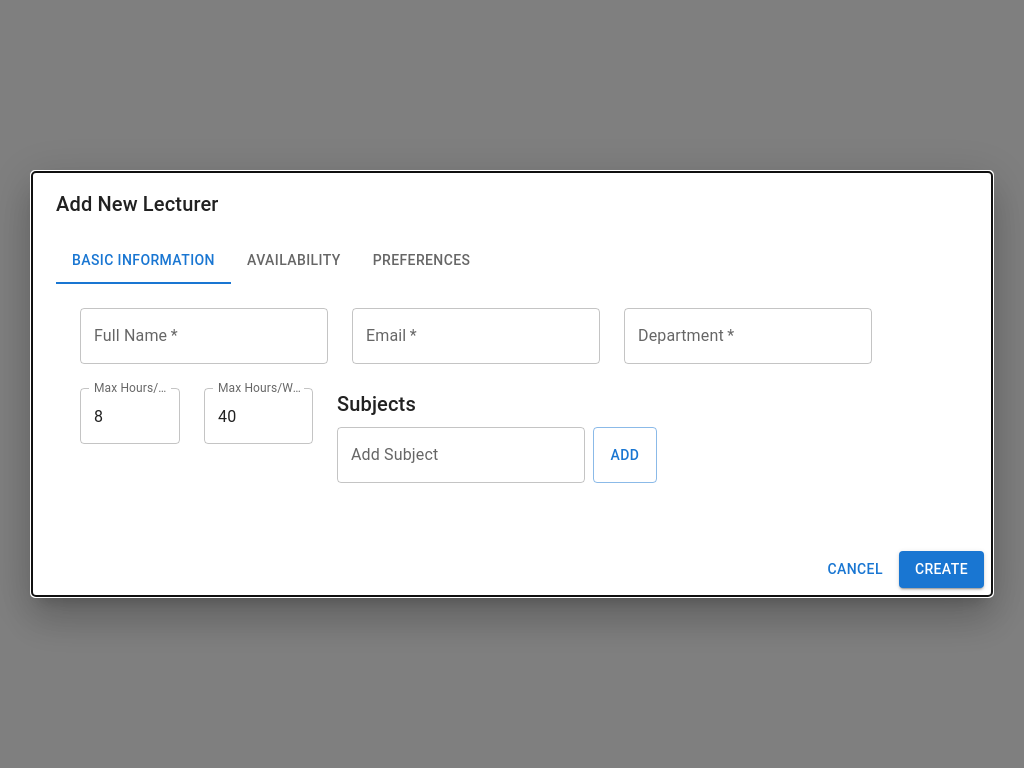
Test: LecturerForm › handles subject addition
The width and height of the screenshot is (1024, 768).
Type "Mathematics" into the field labelled "Add Subject" at [461, 455], box left=337, top=427, right=585, bottom=483
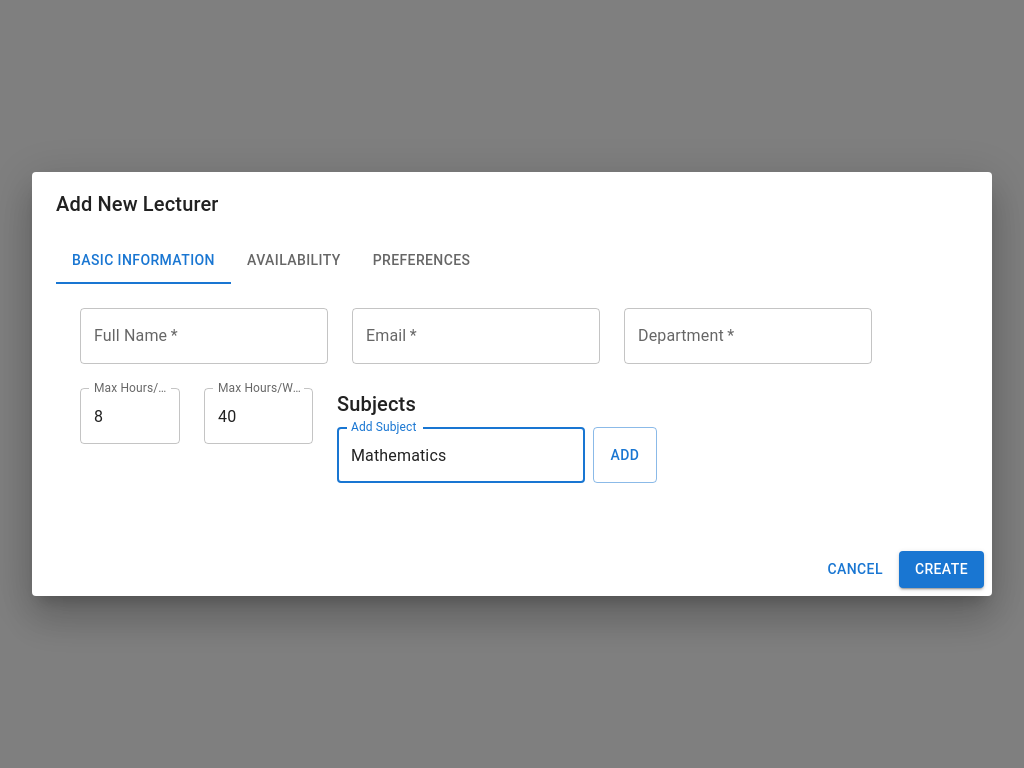
Click the button "Add" at [625, 455], box left=593, top=427, right=657, bottom=483
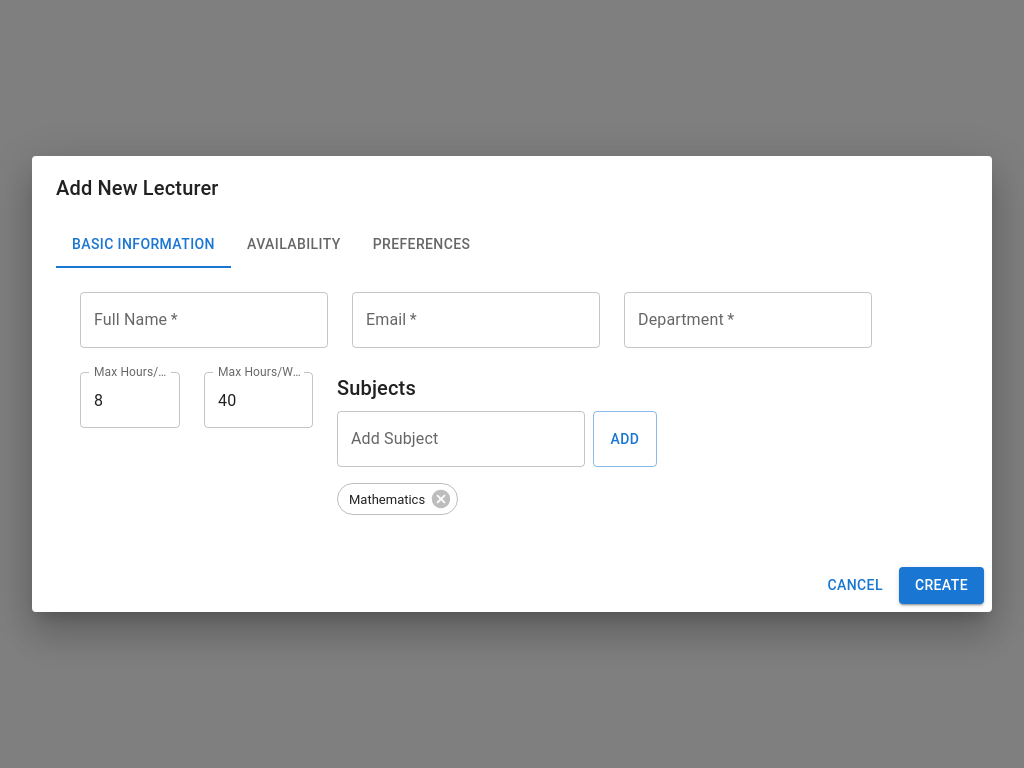
Check: the text "Mathematics" is shown, box left=349, top=492, right=425, bottom=506
